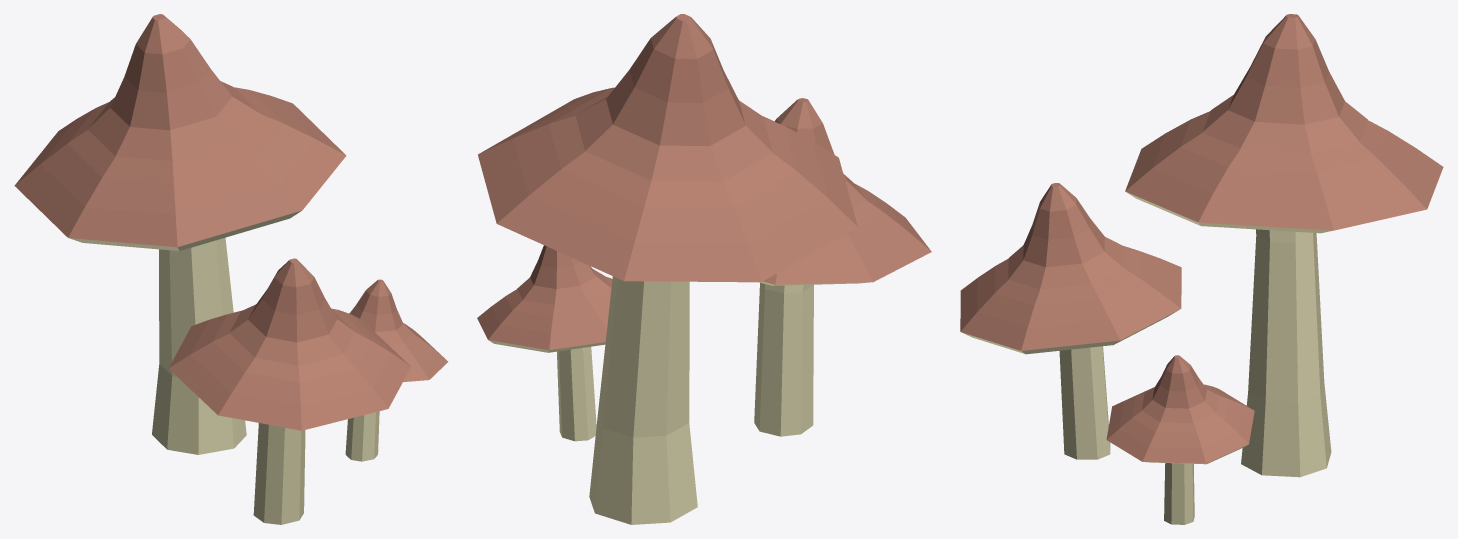
Rendered from mushRoom1.fbx.
3 views of the same model, side by side, from view 1: azimuth 30°, elevation 25°; view 2: azimuth 150°, elevation 25°; view 3: azimuth 270°, elevation 25° (orthographic). The views are drawn at different scales.
Parts seen in each view (by area): view 1: Cube.003, Cube.002, Cube.004; view 2: Cube.003, Cube.002, Cube.004; view 3: Cube.003, Cube.002, Cube.004.
Part boxes in pixels (x1,y1,x2,y2): Cube.003: (14,14,346,454); Cube.002: (168,258,410,524); Cube.004: (345,279,448,461); Cube.003: (478,14,857,524); Cube.002: (754,98,931,436); Cube.004: (477,245,612,441); Cube.003: (1125,14,1443,477); Cube.002: (960,183,1181,459); Cube.004: (1106,355,1254,524).
Size of the model in its own units: 319 by 389 by 394.
